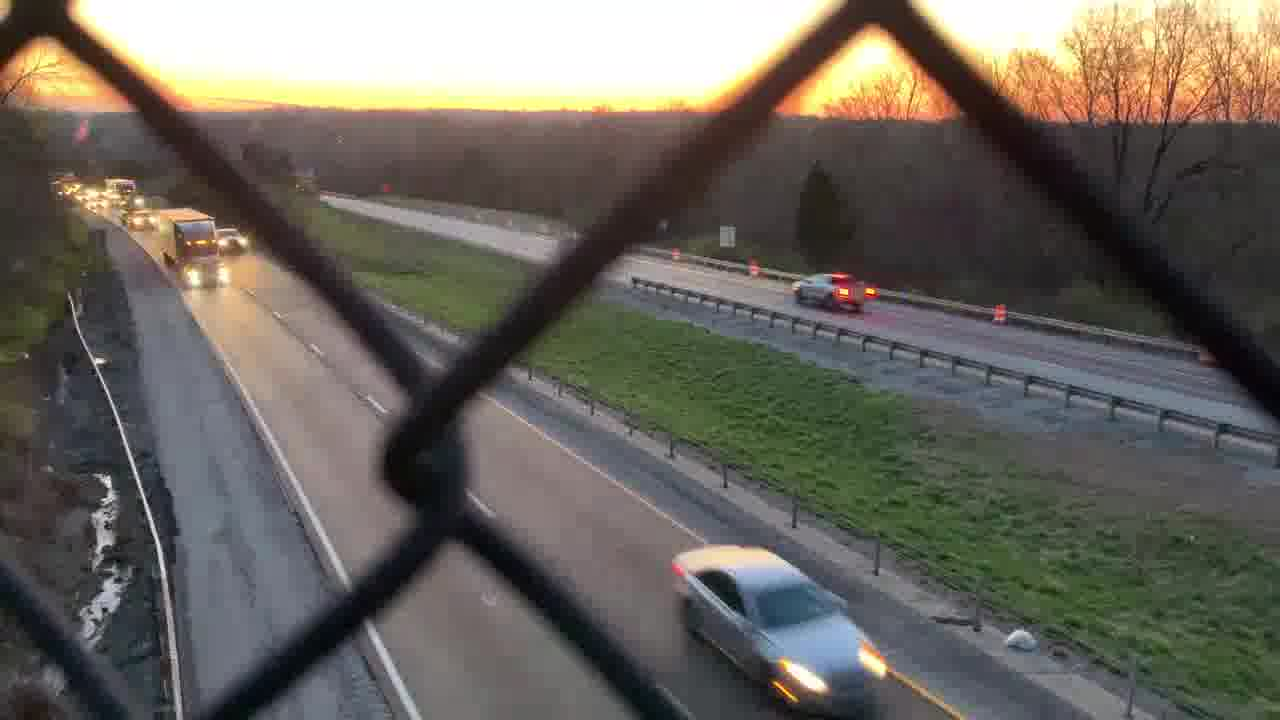heavyTruck: (154, 206, 231, 291)
lightTruck: (794, 273, 878, 314)
smallCar: (674, 547, 896, 705)
